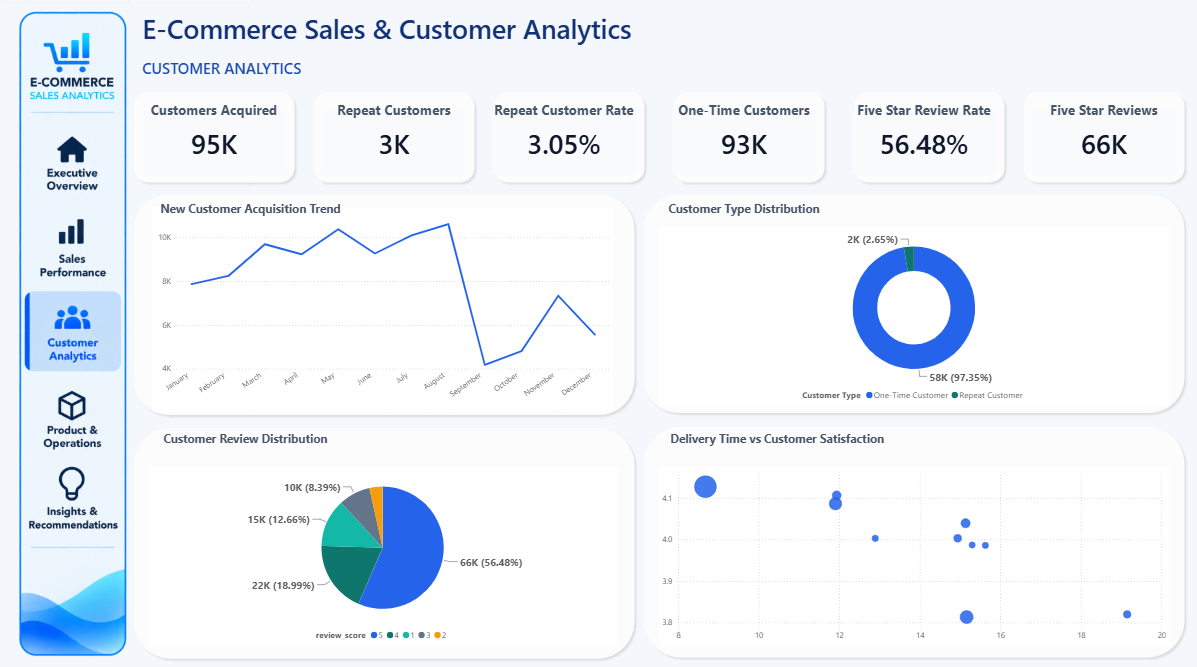

This screenshot's page, from the dashboard's own definition file:
{"tool":"powerbi","page":{"name":"Customer Analytics","canvas":[1920,1080],"ordinal":2},"visuals":[{"type":"shape","box":[0,-8,208,1088],"z":1000},{"type":"image","box":[0,8,400,1072],"z":1500},{"type":"shape","box":[208,144,272,160],"z":2000},{"type":"shape","box":[1632,144,272,160],"z":4000},{"type":"shape","box":[496,144,272,160],"z":5000},{"type":"shape","box":[784,144,256,160],"z":6000},{"type":"shape","box":[1360,144,256,160],"z":7000},{"type":"shape","box":[1072,144,256,160],"z":8000},{"type":"cardVisual","fields":{"Data":["Table.Repeat Customer Rate"]},"box":[784,176,240,112],"z":9000},{"type":"cardVisual","fields":{"Data":["Table.Repeat Customers"]},"box":[512,176,240,112],"z":10000},{"type":"cardVisual","fields":{"Data":["Table.Five Star Review Rate"]},"box":[1360,176,240,112],"z":11000},{"type":"cardVisual","fields":{"Data":["Table.One-Time Customers"]},"box":[1072,176,240,112],"z":12000},{"type":"cardVisual","fields":{"Data":["Table.Five Star Reviews"]},"box":[1648,176,240,112],"z":13000},{"type":"cardVisual","fields":{"Data":["Table.New Customers"]},"box":[224,176,240,112],"z":14000},{"type":"textbox","box":[496,160,272,48],"z":15000},{"type":"textbox","box":[768,160,272,48],"z":16000},{"type":"textbox","box":[1056,160,272,48],"z":17000},{"type":"textbox","box":[1344,160,272,48],"z":18000},{"type":"textbox","box":[1632,160,272,48],"z":19000},{"type":"shape","box":[208,307,816,368],"z":20000},{"type":"lineChart","fields":{"Category":["Sales Analytics.purchase_date.Variation.Date Hierarchy.Month"],"Y":["Table.Customers Acquired"]},"box":[245,336,736,327],"z":21000},{"type":"shape","box":[207,682,816,384],"z":22000},{"type":"shape","box":[1024,307,880,365],"z":23000},{"type":"shape","box":[1024,679,880,384],"z":24000},{"type":"textbox","box":[224,320,336,48],"z":25000},{"type":"textbox","box":[1008,320,368,48],"z":26000},{"type":"textbox","box":[224,688,320,48],"z":27000},{"type":"textbox","box":[1008,688,464,48],"z":28000},{"type":"donutChart","fields":{"Category":["Customer Type.Customer Type"],"Y":["Customer Type.Customer Type Count"]},"box":[1056,368,816,288],"z":29000},{"type":"pieChart","fields":{"Category":["Sales Analytics.review_score"],"Y":["Sales Analytics.Review Count"]},"box":[238,752,752,288],"z":30000},{"type":"textbox","box":[208,160,272,48],"z":31000},{"type":"scatterChart","fields":{"X":["Sales Analytics.Average Delivery Days"],"Y":["Sales Analytics.Average Review Score"],"Category":["Sales Analytics.customer_state"],"Size":["Sales Analytics.Total Customers"]},"box":[1056,752,816,288],"z":32000},{"type":"textbox","box":[224,16,848,80],"z":33000},{"type":"textbox","box":[224,91,704,64],"z":34000}]}

Visuals, with their boxes on the page's 1920x1080 design canvas (x1, y1, x2, y2). These are canvas units, not pixel positions in the 1197x667 screenshot, which may show the page scaled, cropped or inside an application window:
shape: Rect(0, -8, 208, 1080)
image: Rect(0, 8, 400, 1080)
shape: Rect(208, 144, 480, 304)
shape: Rect(1632, 144, 1904, 304)
shape: Rect(496, 144, 768, 304)
shape: Rect(784, 144, 1040, 304)
shape: Rect(1360, 144, 1616, 304)
shape: Rect(1072, 144, 1328, 304)
cardVisual - Table.Repeat Customer Rate: Rect(784, 176, 1024, 288)
cardVisual - Table.Repeat Customers: Rect(512, 176, 752, 288)
cardVisual - Table.Five Star Review Rate: Rect(1360, 176, 1600, 288)
cardVisual - Table.One-Time Customers: Rect(1072, 176, 1312, 288)
cardVisual - Table.Five Star Reviews: Rect(1648, 176, 1888, 288)
cardVisual - Table.New Customers: Rect(224, 176, 464, 288)
textbox: Rect(496, 160, 768, 208)
textbox: Rect(768, 160, 1040, 208)
textbox: Rect(1056, 160, 1328, 208)
textbox: Rect(1344, 160, 1616, 208)
textbox: Rect(1632, 160, 1904, 208)
shape: Rect(208, 307, 1024, 675)
lineChart - Sales Analytics.purchase_date.Variation.Date Hierarchy.Month x Table.Customers Acquired: Rect(245, 336, 981, 663)
shape: Rect(207, 682, 1023, 1066)
shape: Rect(1024, 307, 1904, 672)
shape: Rect(1024, 679, 1904, 1063)
textbox: Rect(224, 320, 560, 368)
textbox: Rect(1008, 320, 1376, 368)
textbox: Rect(224, 688, 544, 736)
textbox: Rect(1008, 688, 1472, 736)
donutChart - Customer Type.Customer Type x Customer Type.Customer Type Count: Rect(1056, 368, 1872, 656)
pieChart - Sales Analytics.review_score x Sales Analytics.Review Count: Rect(238, 752, 990, 1040)
textbox: Rect(208, 160, 480, 208)
scatterChart - Sales Analytics.Average Delivery Days x Sales Analytics.Average Review Score: Rect(1056, 752, 1872, 1040)
textbox: Rect(224, 16, 1072, 96)
textbox: Rect(224, 91, 928, 155)
